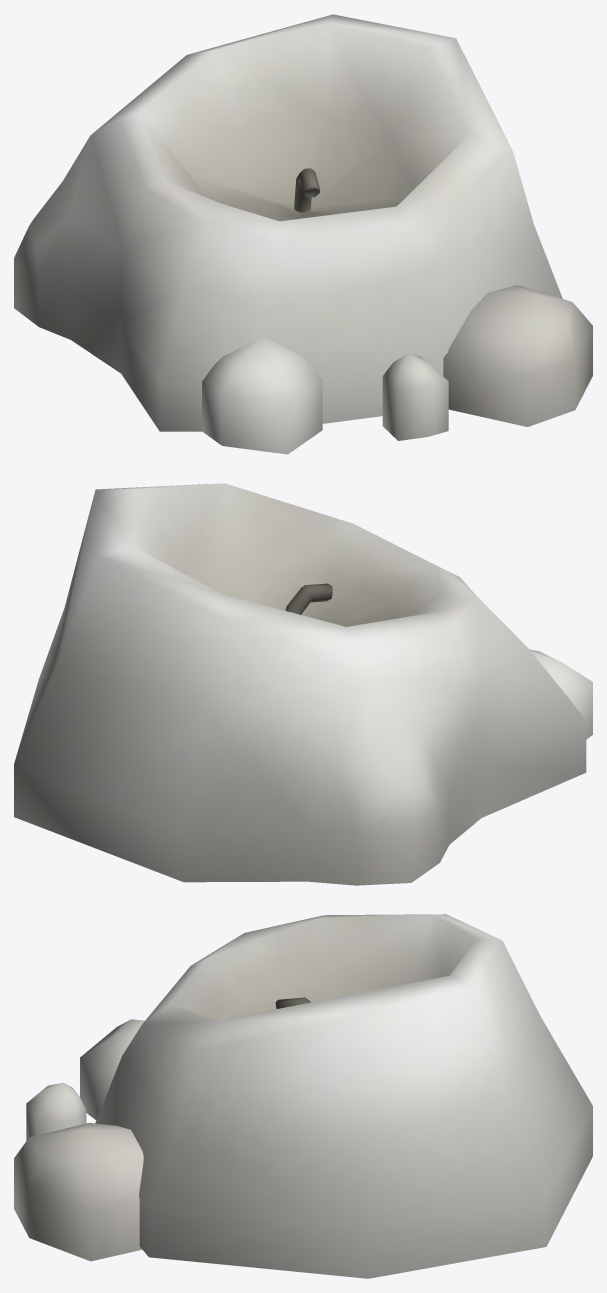
File: candle3.fbx
3 views of the same model, one above another, from view 1: azimuth 30°, elevation 25°; view 2: azimuth 150°, elevation 25°; view 3: azimuth 270°, elevation 25° (orthographic). The views are drawn at different scales.
Parts seen in each view (by area): view 1: candle_003; view 2: candle_003; view 3: candle_003.
Boxes of the visible parts, x1,y1,x2,y2 form: candle_003: [14, 14, 592, 454]; candle_003: [14, 483, 592, 885]; candle_003: [14, 914, 592, 1278].
Bounding box in the file's own units: 8.93 × 4.88 × 10.36.
